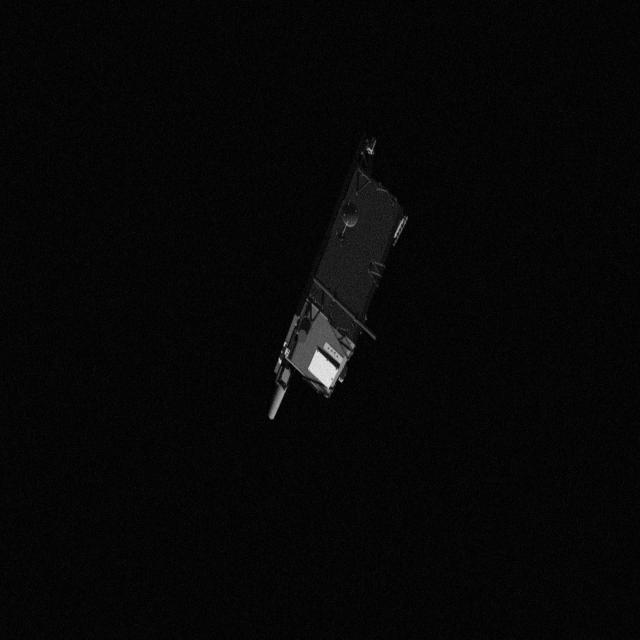medium_debris: (264, 128, 428, 440)
